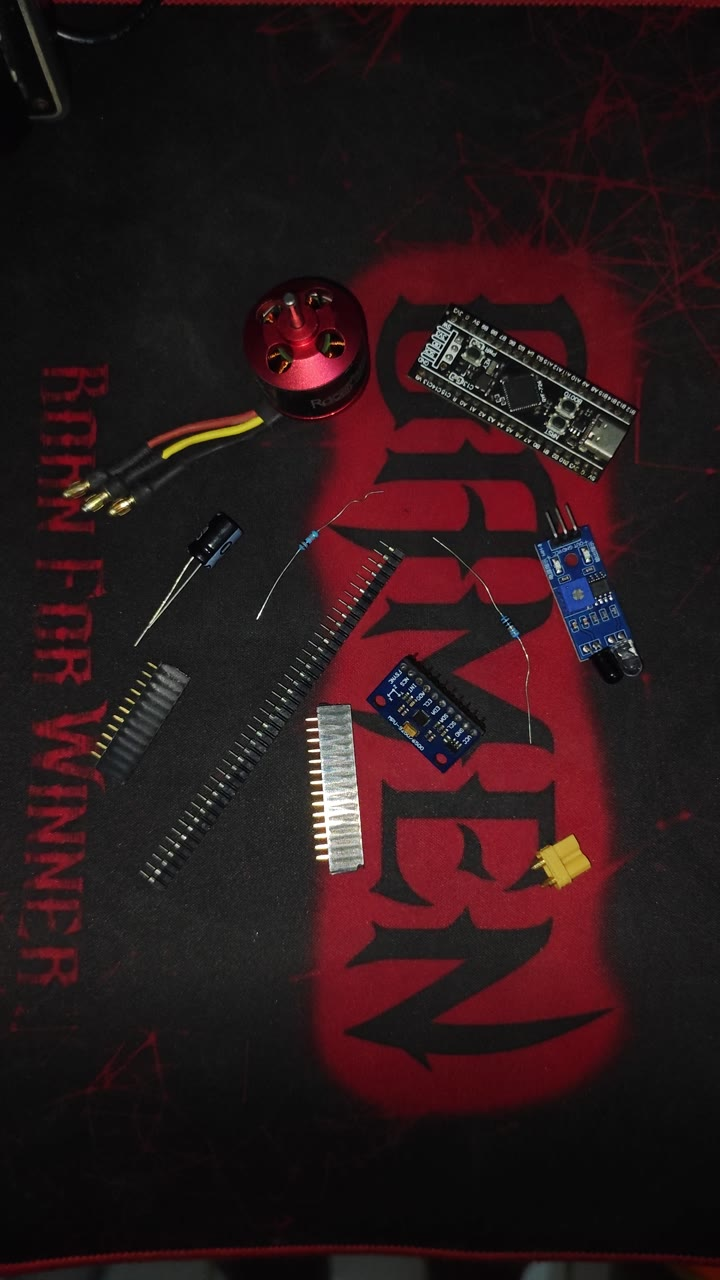bldc_motor: (43, 225, 354, 484)
elco_capacitor: (103, 487, 178, 592)
ir_sensor: (449, 497, 587, 682)
mpu6500: (361, 665, 470, 761)
pin_header: (104, 721, 249, 860), (236, 670, 340, 858), (55, 644, 108, 790)
resistor: (208, 497, 303, 580), (404, 560, 475, 649)
stm32f4: (406, 312, 645, 459)
xt30_female: (481, 785, 563, 867)
